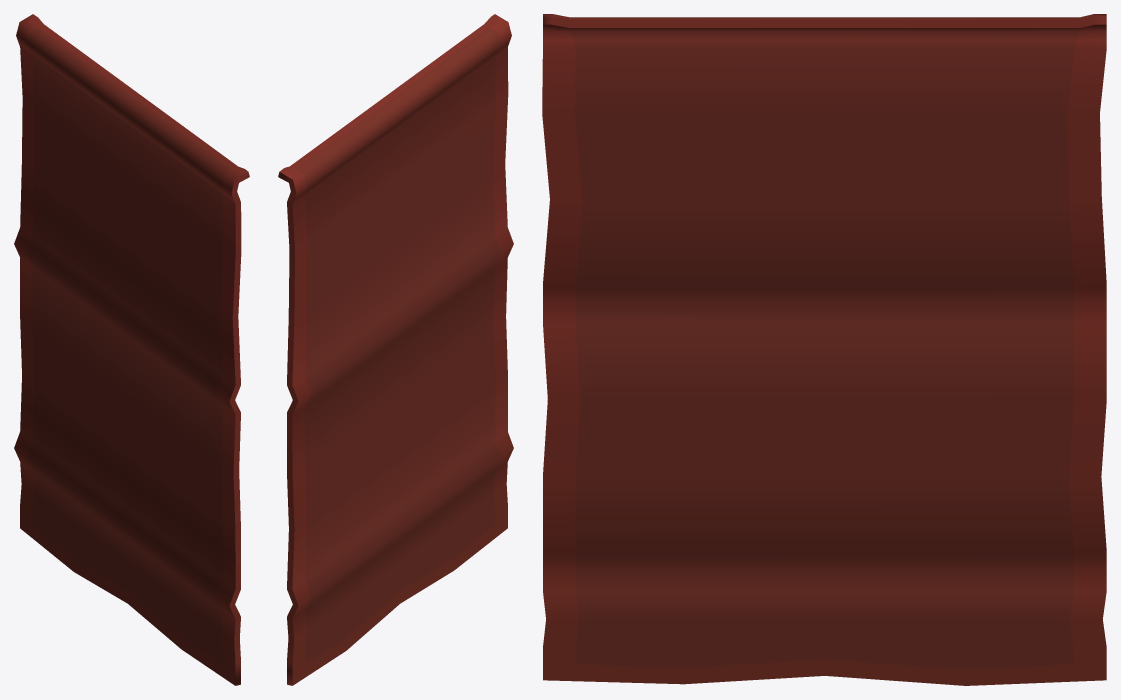
File: Scaffold_sheet_1_7.fbx
3 renders of one model, left to right at view 1: azimuth 30°, elevation 25°; view 2: azimuth 150°, elevation 25°; view 3: azimuth 270°, elevation 25°, orthographic. The views are drawn at different scales.
Parts seen in each view (by area): view 1: Scaffold_sheet_1_7; view 2: Scaffold_sheet_1_7; view 3: Scaffold_sheet_1_7.
Part boxes in pixels (x1,y1,x2,y2): Scaffold_sheet_1_7: [14, 14, 249, 685]; Scaffold_sheet_1_7: [278, 14, 513, 685]; Scaffold_sheet_1_7: [542, 14, 1106, 685].
Bounding box in the file's own units: 10.1 × 242 × 184.
